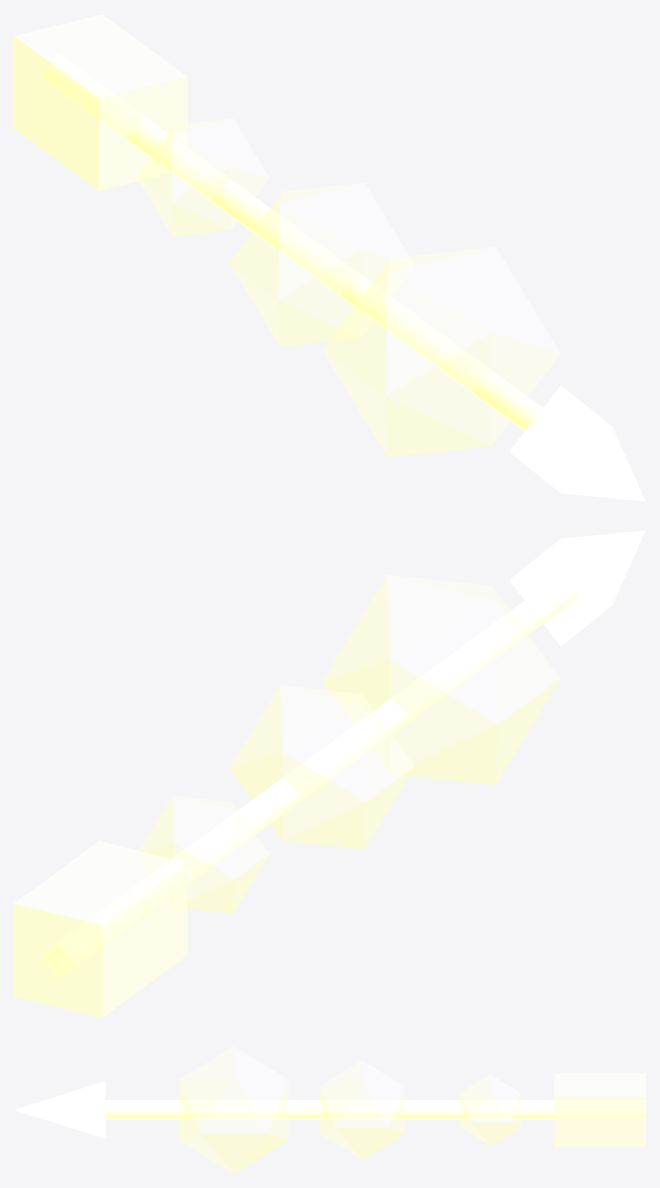
The model's file is fx_arrow.glb.
The picture shows the model from 3 angles, top to bottom: view 1: azimuth 30°, elevation 25°; view 2: azimuth 150°, elevation 25°; view 3: azimuth 270°, elevation 25°; orthographic projection. The views are drawn at different scales.
Parts seen in each view (by area): view 1: trail0_trailGlow, shot_arrowFletch, trail1_trailGlow, shot_arrowShaft, trail2_trailGlow, shot_arrowTip; view 2: trail0_trailGlow, shot_arrowFletch, trail1_trailGlow, shot_arrowShaft, trail2_trailGlow, shot_arrowTip; view 3: shot_arrowShaft, trail0_trailGlow, shot_arrowFletch, trail1_trailGlow, trail2_trailGlow, shot_arrowTip.
Boxes of the visible parts, x1,y1,x2,y2 form: trail0_trailGlow: [322, 247, 560, 456]; shot_arrowFletch: [14, 14, 187, 190]; trail1_trailGlow: [229, 183, 414, 346]; shot_arrowShaft: [41, 53, 542, 431]; trail2_trailGlow: [136, 118, 269, 236]; shot_arrowTip: [509, 385, 645, 501]; trail0_trailGlow: [322, 575, 560, 784]; shot_arrowFletch: [14, 841, 187, 1017]; trail1_trailGlow: [229, 685, 414, 848]; shot_arrowShaft: [40, 574, 577, 978]; trail2_trailGlow: [139, 795, 269, 913]; shot_arrowTip: [509, 530, 645, 646]; shot_arrowShaft: [105, 1100, 645, 1119]; trail0_trailGlow: [179, 1046, 288, 1173]; shot_arrowFletch: [554, 1073, 645, 1146]; trail1_trailGlow: [319, 1060, 404, 1159]; trail2_trailGlow: [459, 1074, 520, 1145]; shot_arrowTip: [15, 1081, 105, 1138].
Bounding box in the file's own units: 0.1191 × 0.1191 × 0.69.
